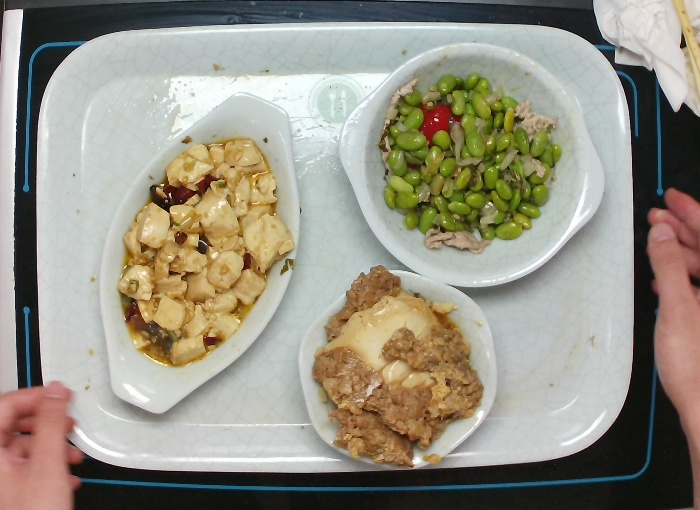JYsf-Shuang_Er_Wan: (333, 38, 609, 293)
JYsf-Yu_Pan: (99, 82, 305, 420)
WCQzf-Hua_Duo_Wan: (293, 271, 495, 467)
